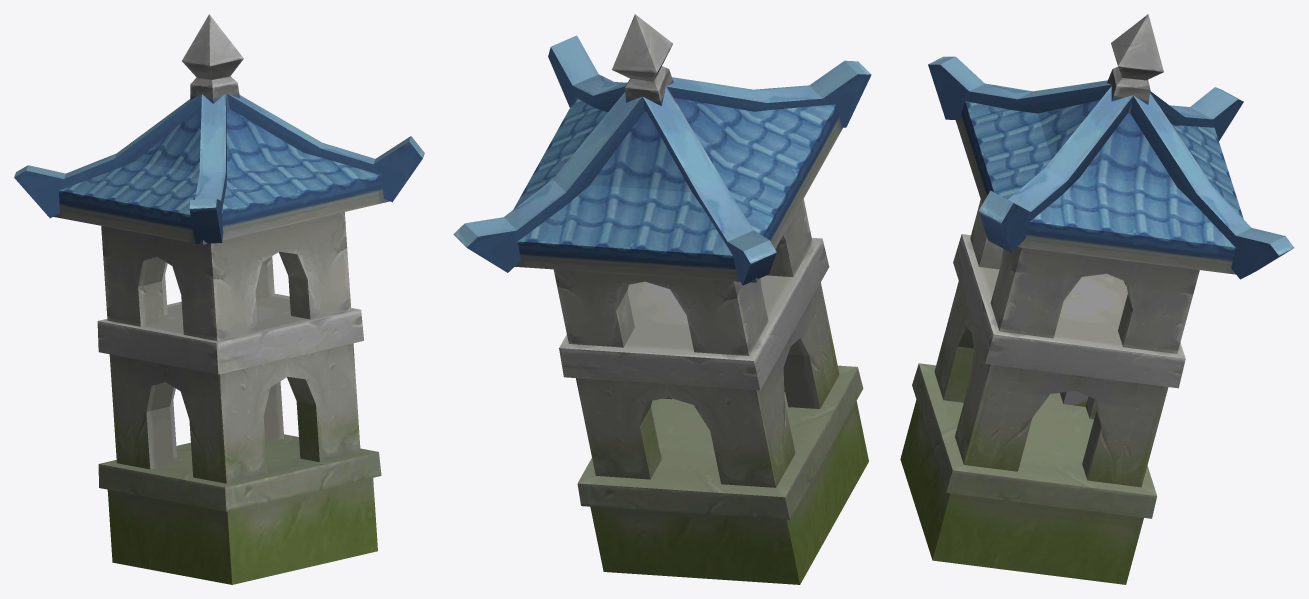
File: map_xuanren_wujian2.fbx
3 views of the same model, side by side, from view 1: azimuth 30°, elevation 25°; view 2: azimuth 150°, elevation 25°; view 3: azimuth 270°, elevation 25° (orthographic). The views are drawn at different scales.
Parts seen in each view (by area): view 1: xuanrenbh_dengta01; view 2: xuanrenbh_dengta01; view 3: xuanrenbh_dengta01.
Boxes of the visible parts, x1,y1,x2,y2 form: xuanrenbh_dengta01: [14, 14, 424, 584]; xuanrenbh_dengta01: [453, 14, 871, 584]; xuanrenbh_dengta01: [900, 14, 1294, 584].
Bounding box in the file's own units: 0.3559 × 0.5707 × 0.3701.
